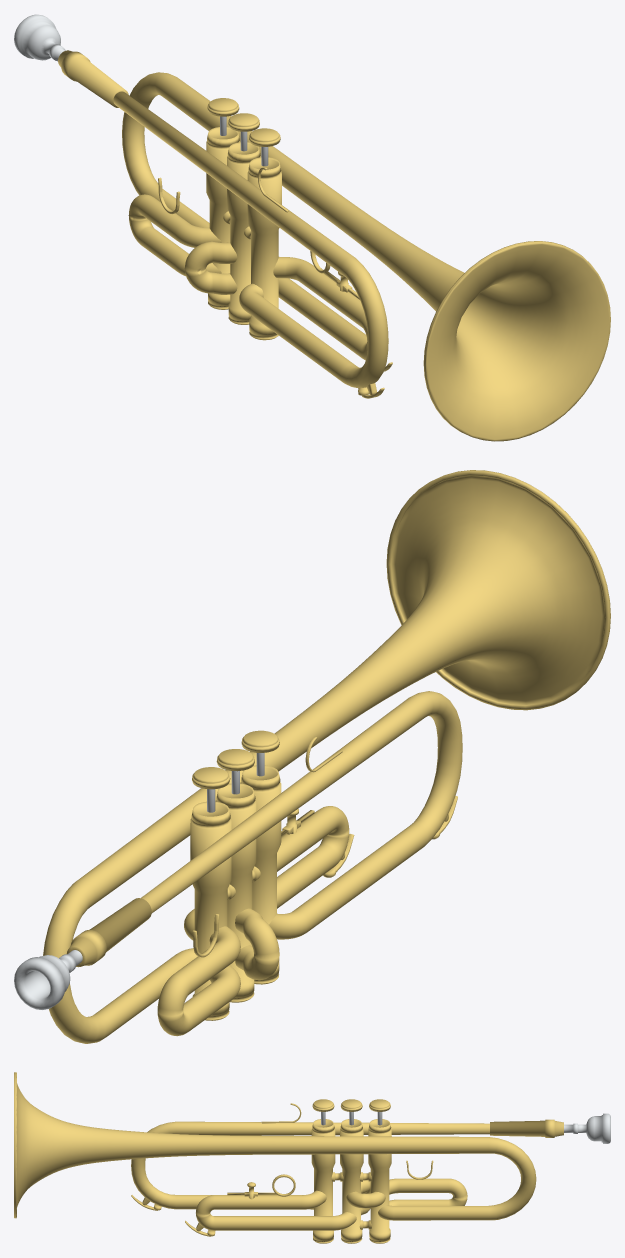
The model's file is trumpet.glb.
3 views of the same model, one above another, from view 1: azimuth 30°, elevation 25°; view 2: azimuth 150°, elevation 25°; view 3: azimuth 270°, elevation 25° (orthographic). The views are drawn at different scales.
Parts seen in each view (by area): view 1: trumpet; view 2: trumpet; view 3: trumpet.
Part boxes in pixels (<box>): trumpet: <box>14,14,610,441</box>; trumpet: <box>14,470,610,1043</box>; trumpet: <box>14,1072,610,1243</box>.
Bounding box in the file's own units: 0.2369 × 0.3032 × 0.9658.
